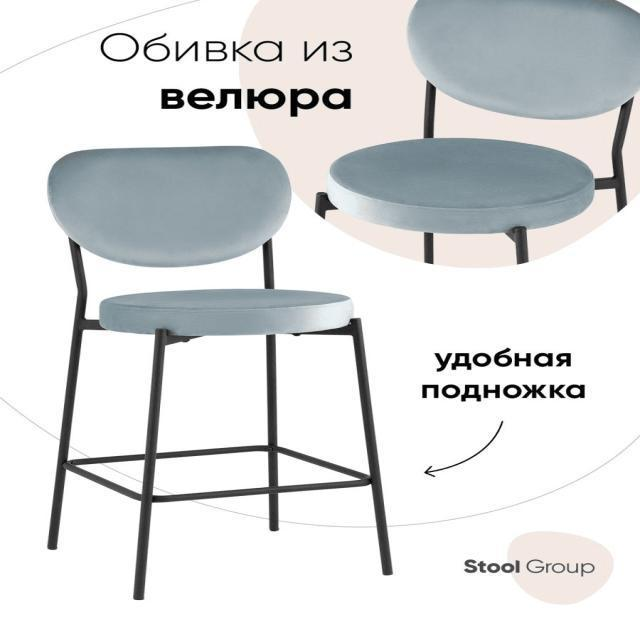chair: (30, 140, 398, 602), (317, 0, 639, 233), (38, 132, 364, 336)
